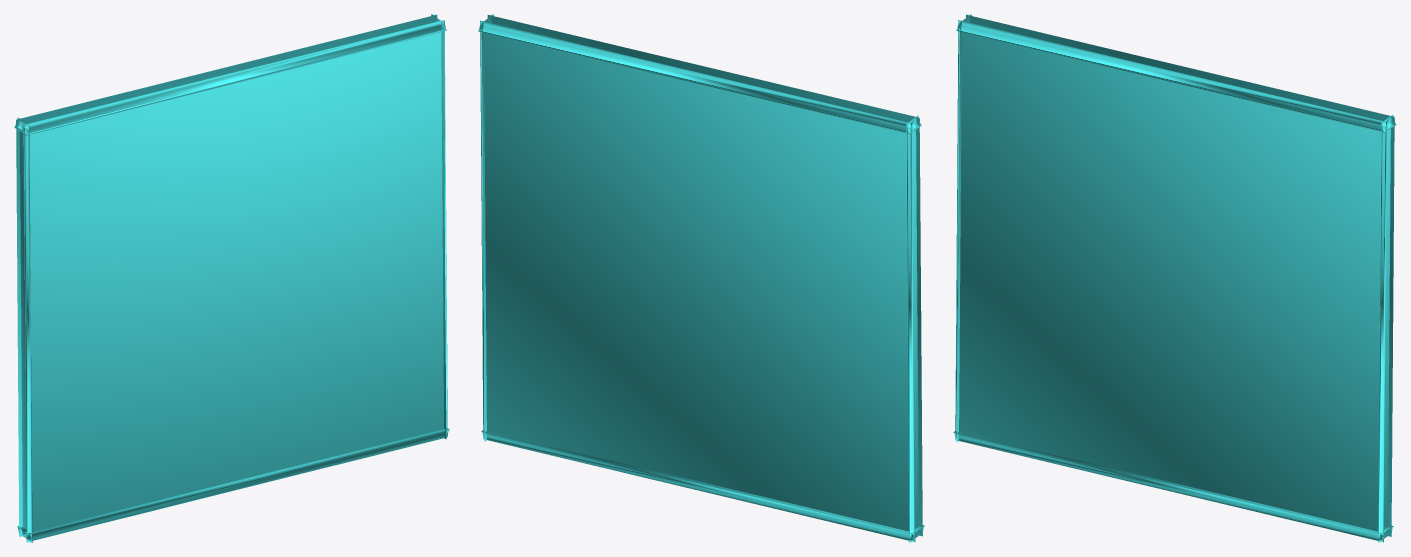
Rendered from mini_ecran.fbx.
3 views of the same model, side by side, from view 1: azimuth 30°, elevation 25°; view 2: azimuth 150°, elevation 25°; view 3: azimuth 330°, elevation 25° (orthographic).
Parts seen in each view (by area): view 1: ChamferBox005; view 2: ChamferBox005; view 3: ChamferBox005.
Boxes of the visible parts, x1,y1,x2,y2 form: ChamferBox005: [14, 14, 449, 542]; ChamferBox005: [478, 14, 924, 542]; ChamferBox005: [953, 14, 1396, 542].
Size of the model in its own units: 5.27 by 4.94 by 0.3724.
